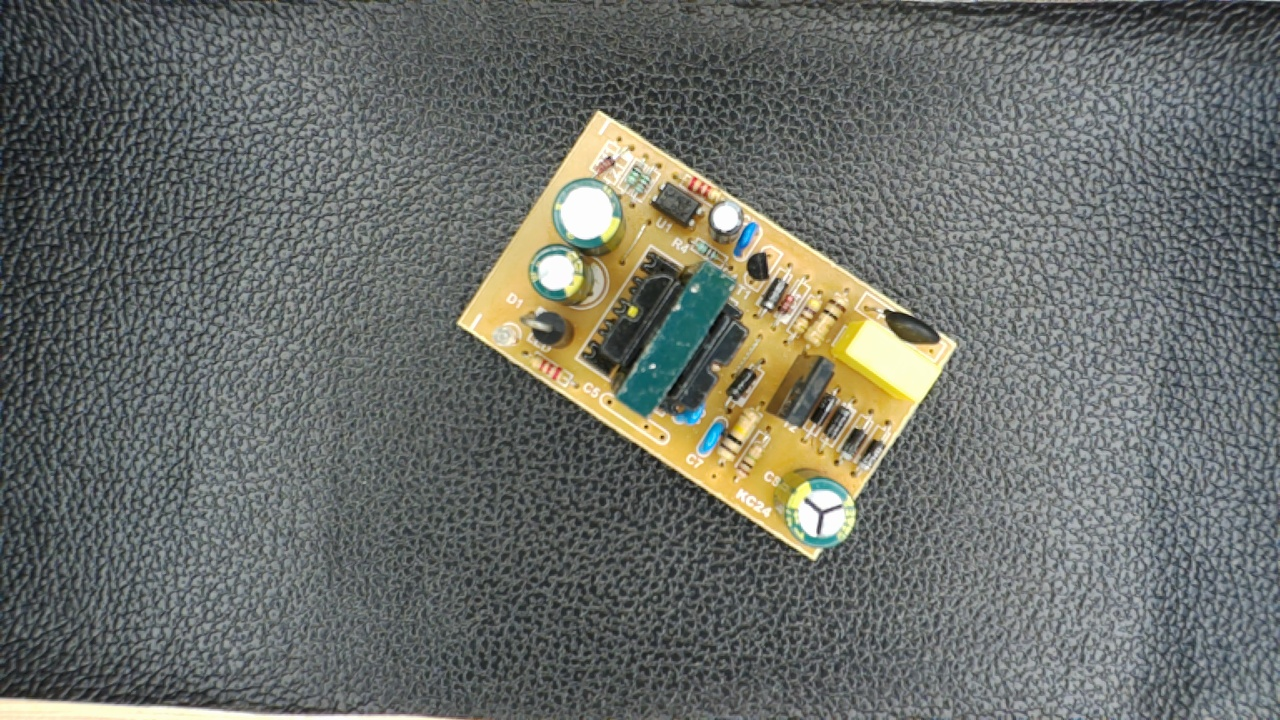fuse: (861, 306, 947, 347)
hv_capacitor: (770, 470, 860, 552)
optocoupler: (648, 180, 705, 230)
